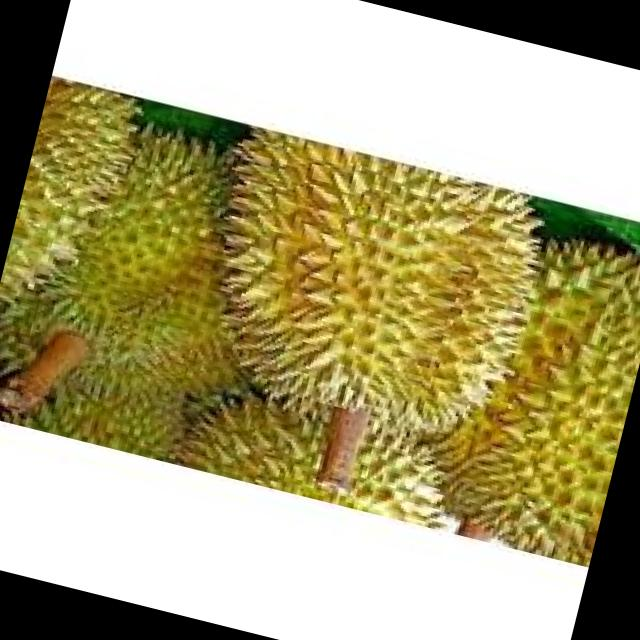fruit: (368, 186, 640, 584), (0, 84, 276, 469)
